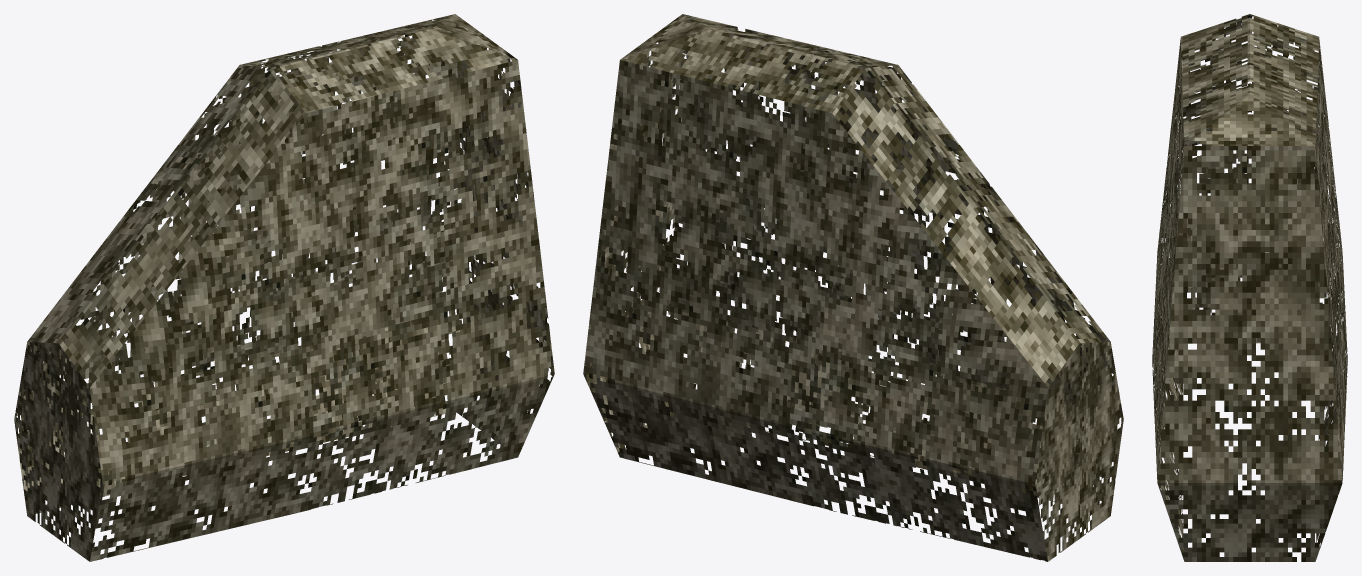
The model's file is bush_connector_high_end_dead.glb.
3 renders of one model, left to right at view 1: azimuth 30°, elevation 25°; view 2: azimuth 150°, elevation 25°; view 3: azimuth 270°, elevation 25°, orthographic. The views are drawn at different scales.
Parts seen in each view (by area): view 1: bush_connector_high_end_dead; view 2: bush_connector_high_end_dead; view 3: bush_connector_high_end_dead.
Boxes of the visible parts, x1,y1,x2,y2 form: bush_connector_high_end_dead: [14, 14, 554, 561]; bush_connector_high_end_dead: [583, 14, 1123, 561]; bush_connector_high_end_dead: [1152, 14, 1347, 561].
Size of the model in its own units: 2.12 by 1.88 by 0.7592.
1 material, 1 textured.
